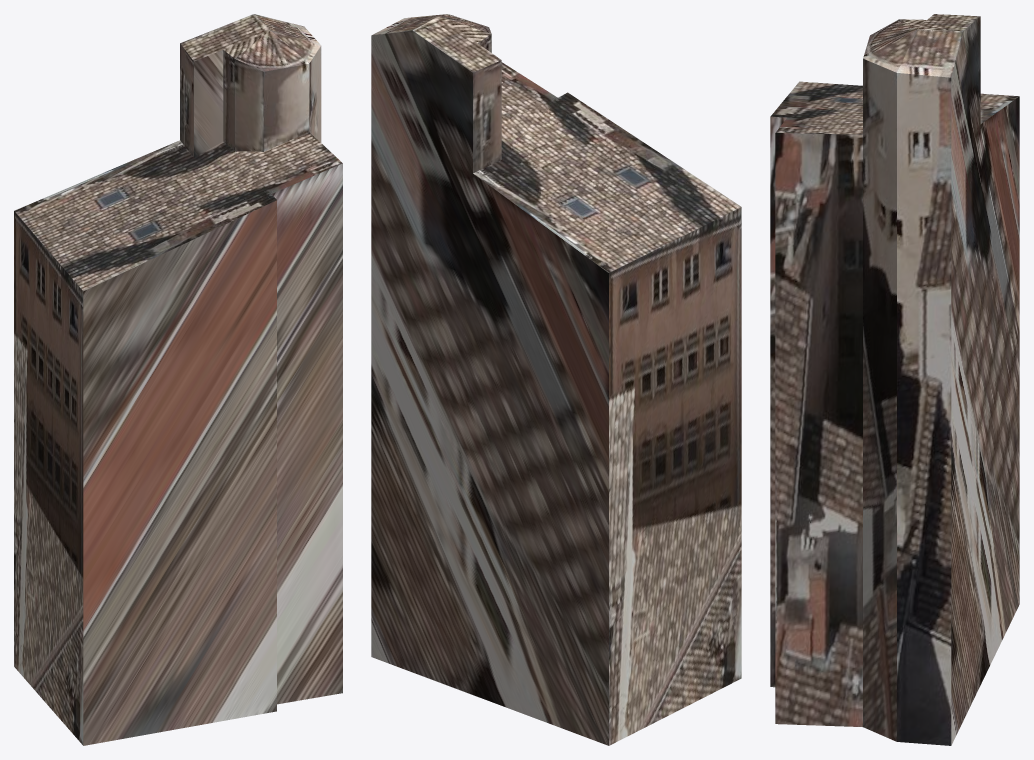
3 views of the same model, side by side, from view 1: azimuth 30°, elevation 25°; view 2: azimuth 150°, elevation 25°; view 3: azimuth 270°, elevation 25° (orthographic). The views are drawn at different scales.
Parts seen in each view (by area): view 1: Z_UP; view 2: Z_UP; view 3: Z_UP.
Part boxes in pixels (bbox=[...]): Z_UP: bbox=[14, 14, 342, 745]; Z_UP: bbox=[371, 14, 741, 745]; Z_UP: bbox=[770, 14, 1019, 745].
Size of the model in its own units: 12.67 by 25.91 by 8.48.
Materials: 2 (1 with a texture image).
